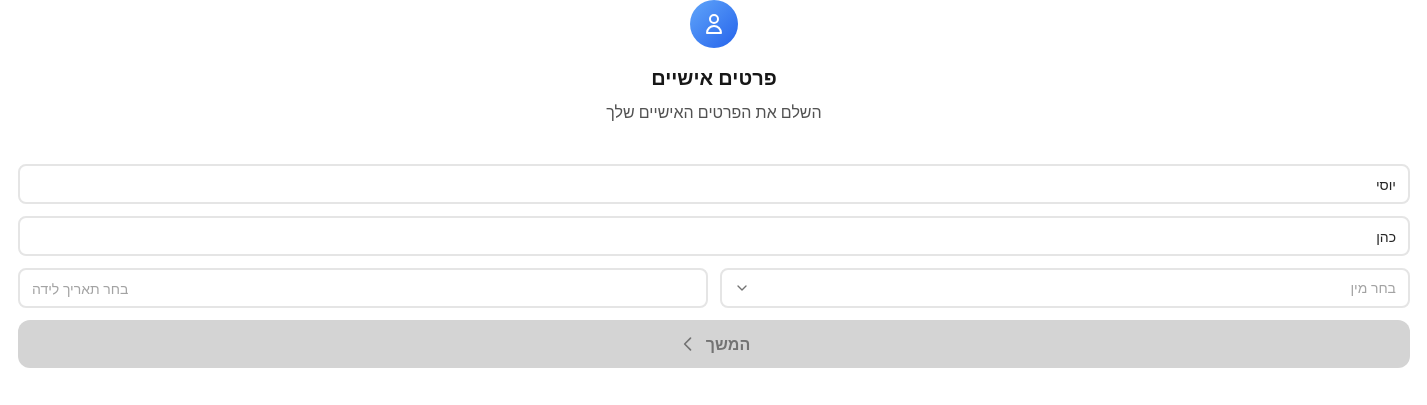
Test: PersonalDetailsStep › Form Validation › shows the birthdate validation error
Type "2030-01-01" into the field with test id "birthdate-input" at x=363, y=288, box [18,268,708,308]
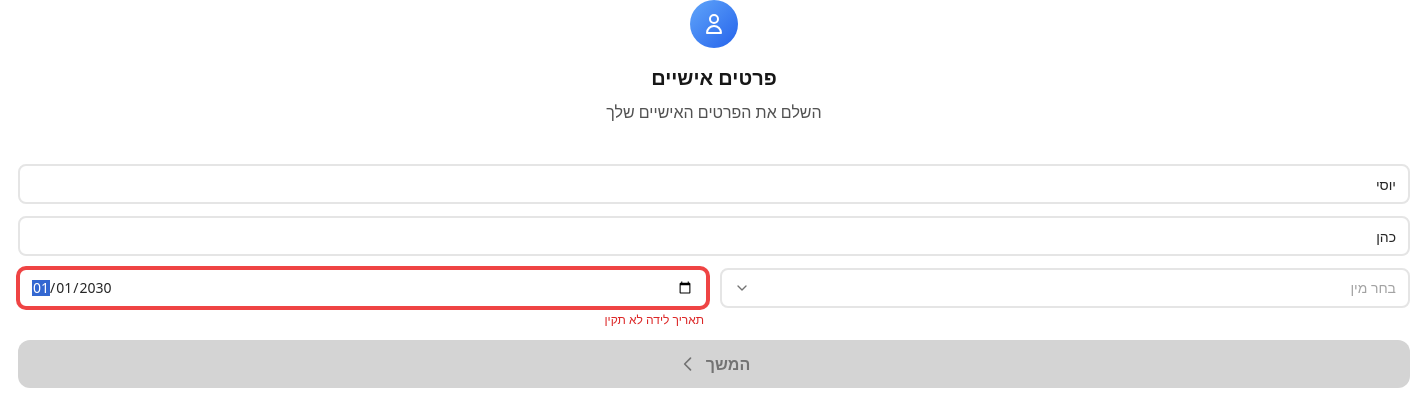
Check: the text with test id "birthdate-error" reads "תאריך לידה לא תקין", box [604,311,704,328]
